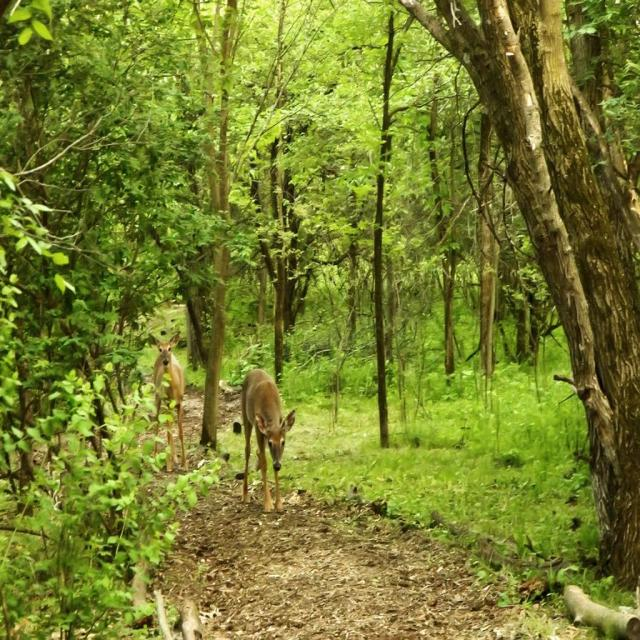Deer: (238, 364, 298, 514), (150, 331, 188, 474)
